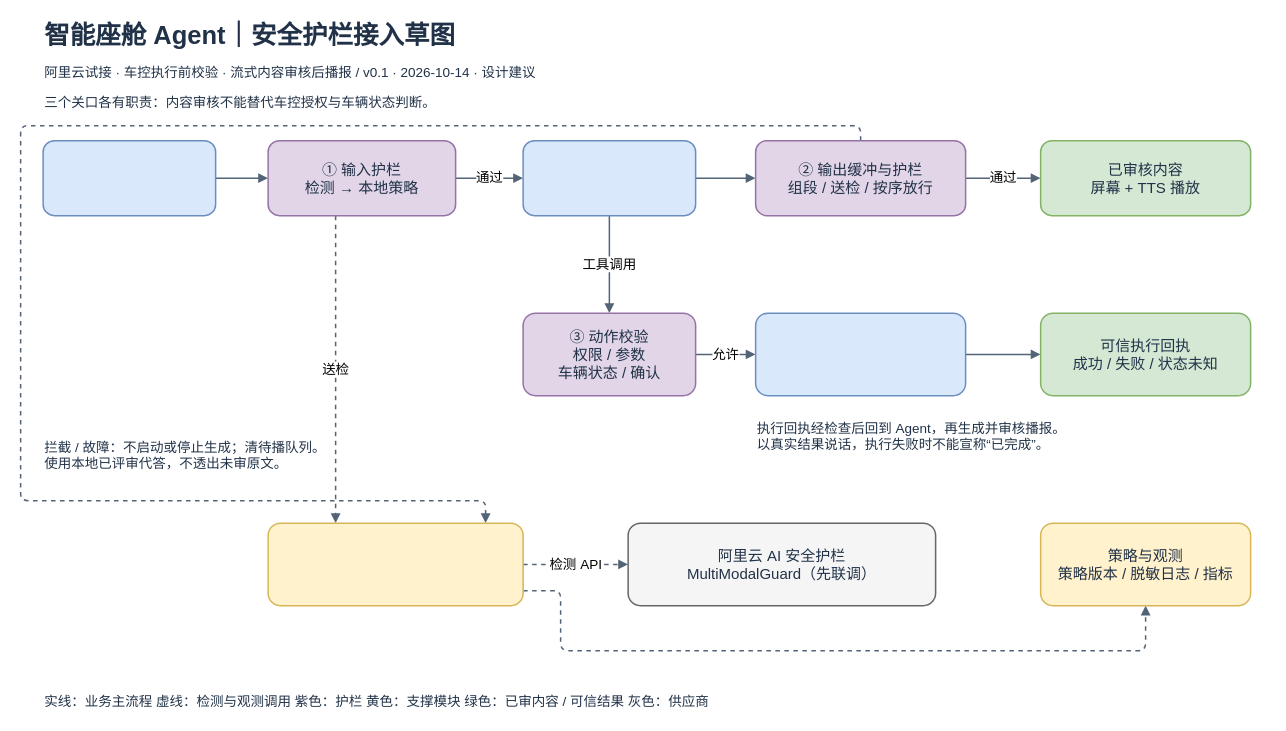
Some shapes in this 1286 by 731 pixel diagram are drawn without their labels. The centre of each missing label's shape, as x and y in pixels:
Agent 推理 / 检索 / 计划: the point at 609,178
用户输入 ASR 最终转写 / 文字: the point at 129,178
统一供应商适配器 超时 / 错误 / 结果归一化: the point at 395,564
车控网关 / 模拟工具 独立校验 + 幂等执行: the point at 860,354
